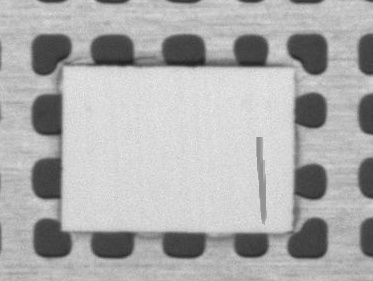DIE_INK: (256, 137, 268, 223)
